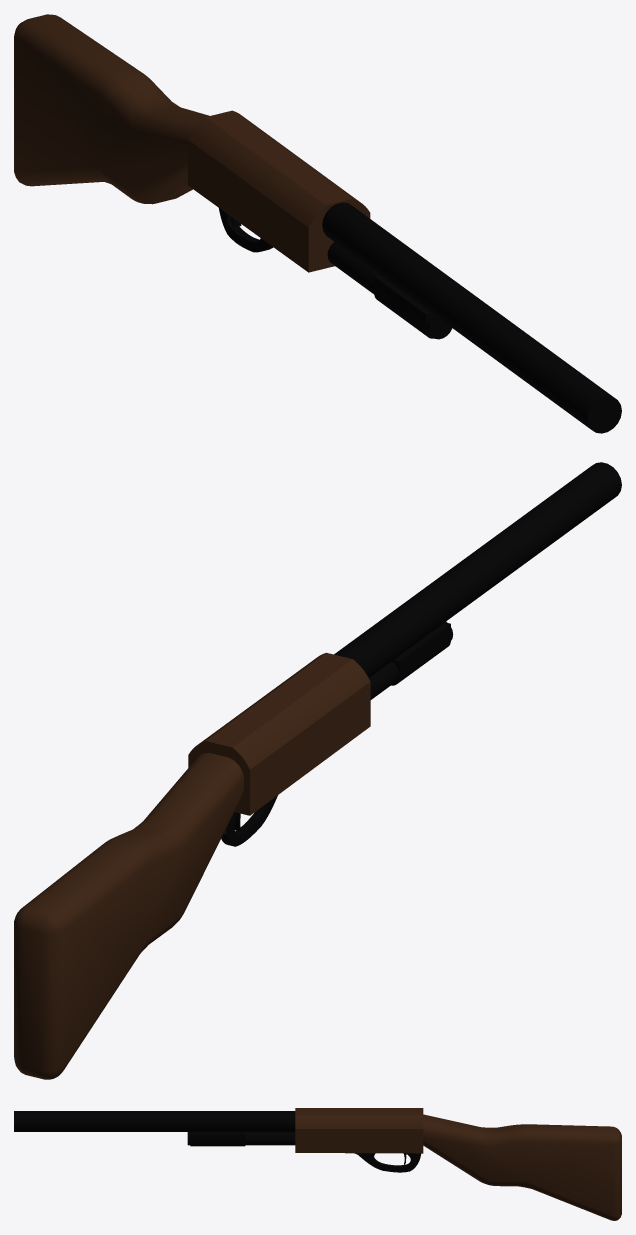
Rendered from Shotgun.fbx.
3 views of the same model, one above another, from view 1: azimuth 30°, elevation 25°; view 2: azimuth 150°, elevation 25°; view 3: azimuth 270°, elevation 25° (orthographic). The views are drawn at different scales.
Visible parts, largest first — view 1: Shotgun; view 2: Shotgun; view 3: Shotgun.
Part boxes in pixels (x1=…): Shotgun: x1=14, y1=14, x2=621, y2=433; Shotgun: x1=14, y1=462, x2=621, y2=1079; Shotgun: x1=14, y1=1108, x2=621, y2=1220.
Bounding box in the file's own units: 0.0809 × 0.2515 × 1.3.
